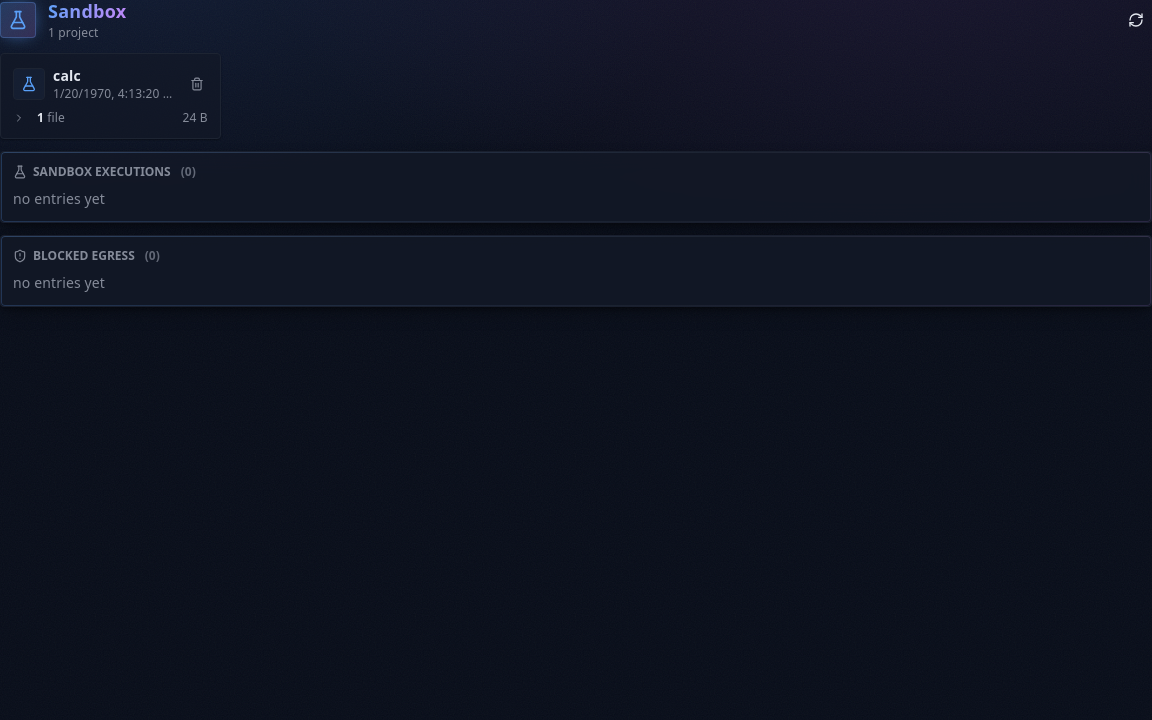
Test: Sandbox view › lists projects and reveals a file's content on click
Note: Expand the project → the file row shows.
Click the button "calc" at (115, 76), box [53, 66, 178, 86]
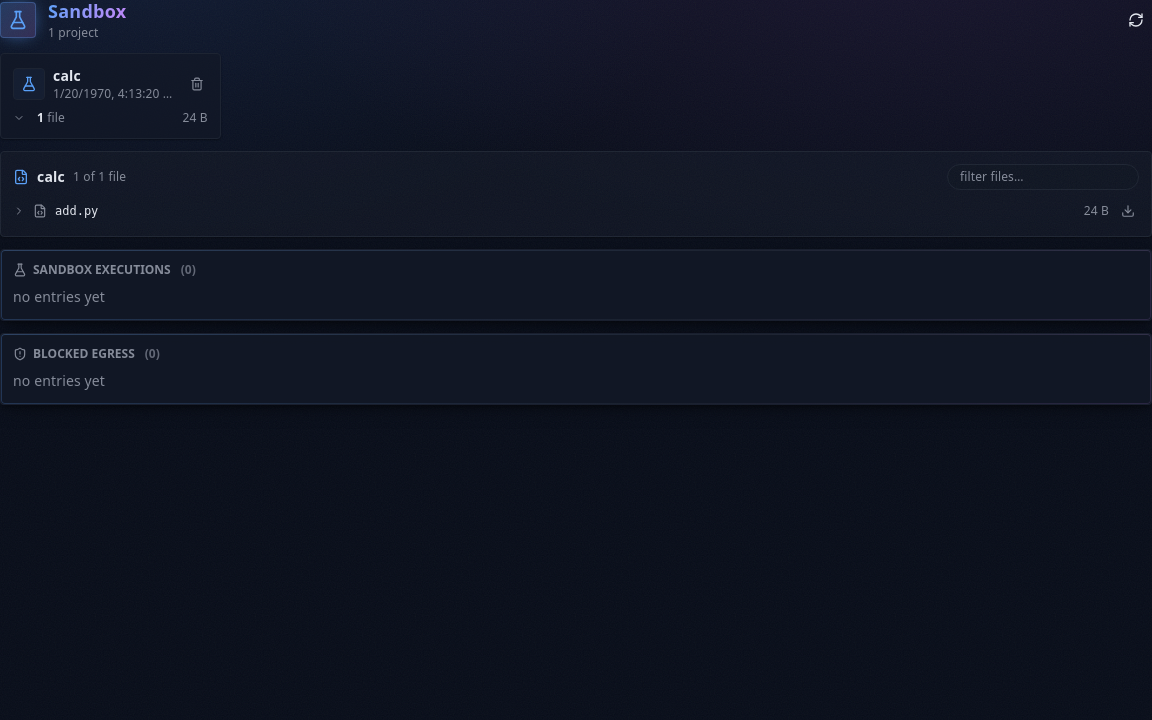
Now the text "add.py" is shown
Note: Expand the file → its content is fetched and rendered.
Click the text "add.py" at (77, 210), box [55, 202, 98, 218]
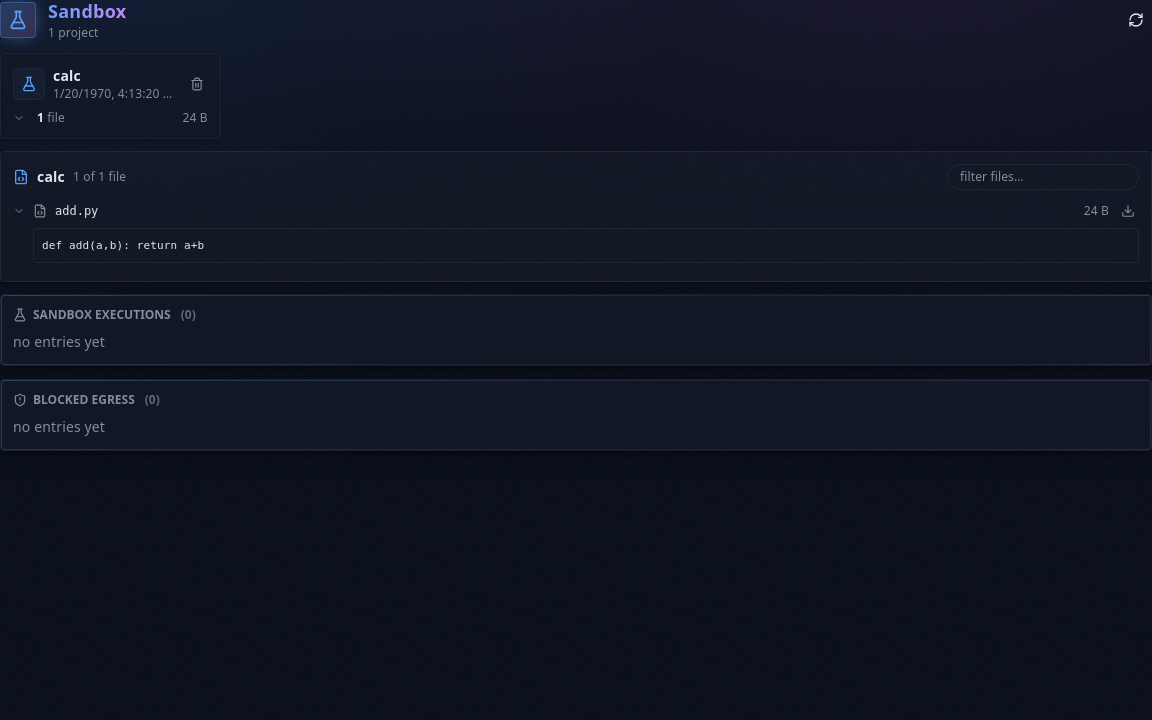
Now the text "def add(a,b): return a+b" is shown, box [42, 238, 204, 252]
